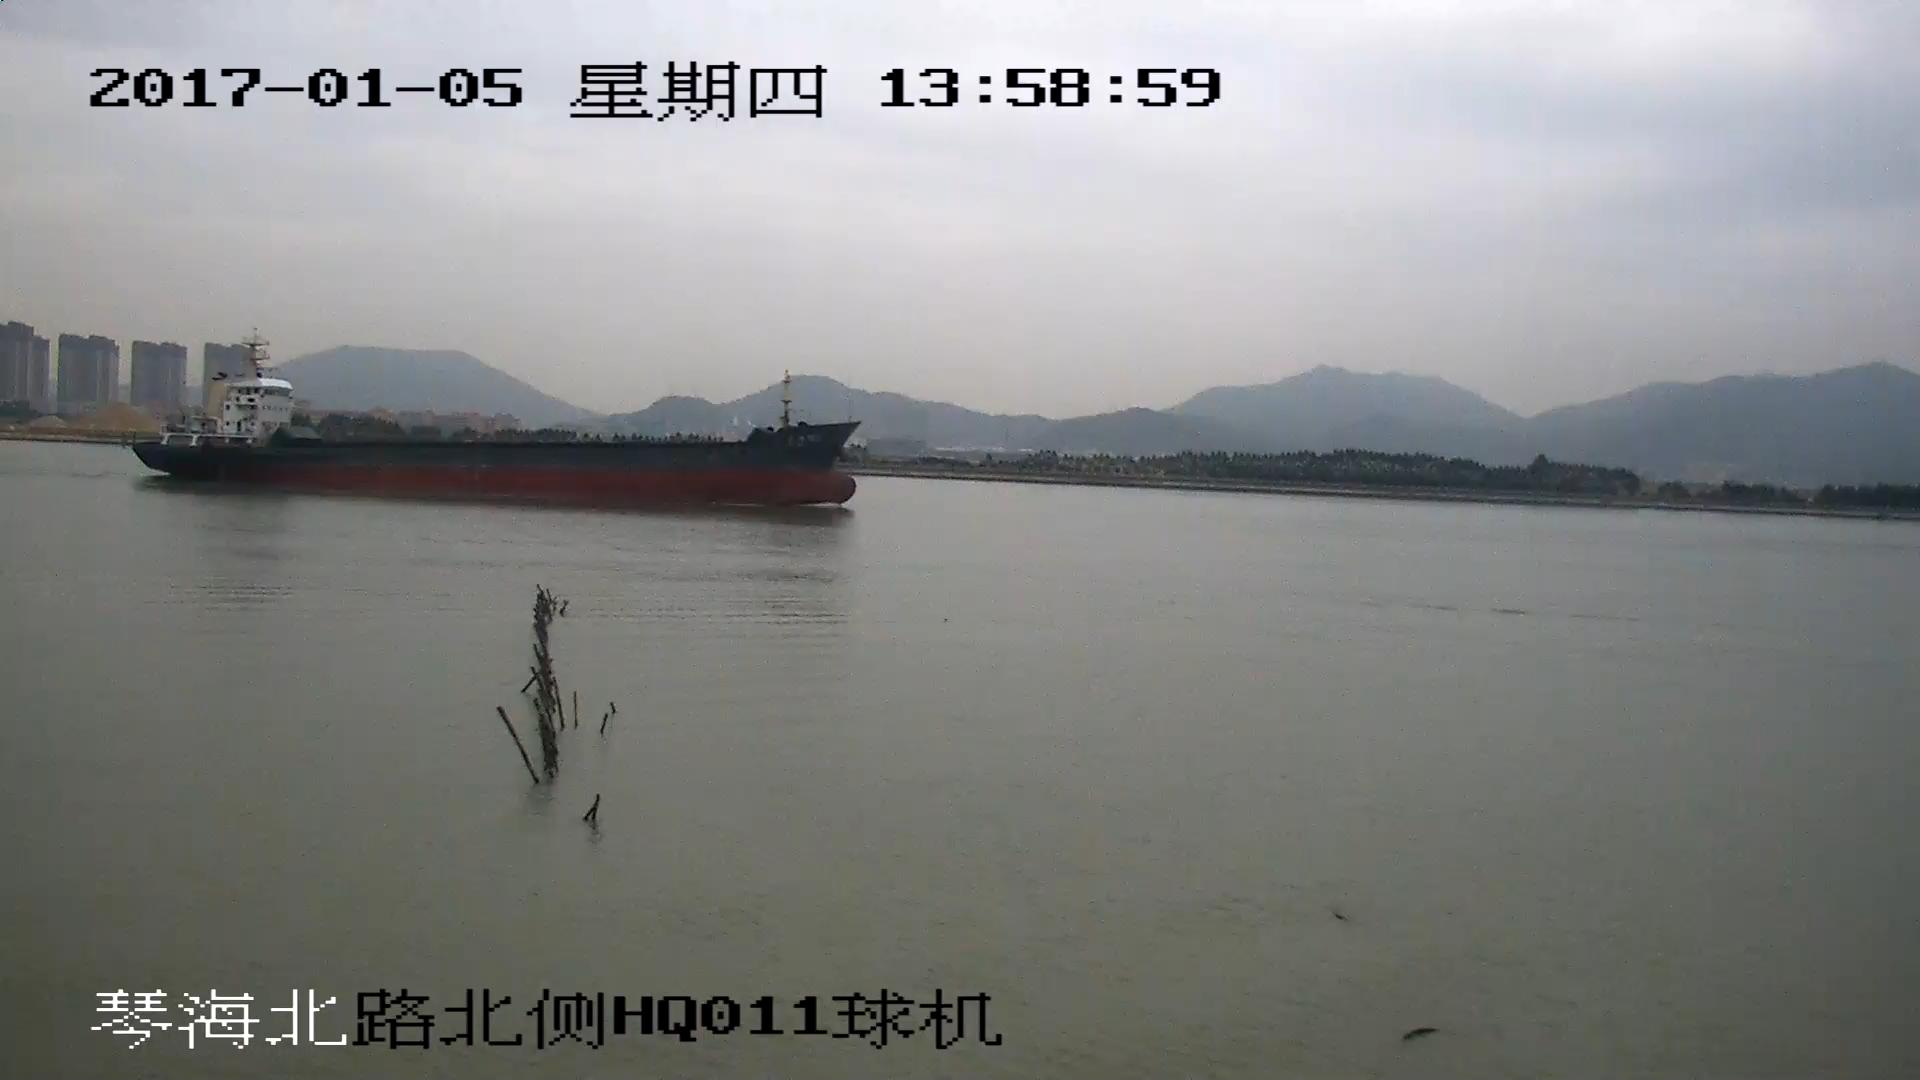general cargo ship: (133, 337, 865, 506)
